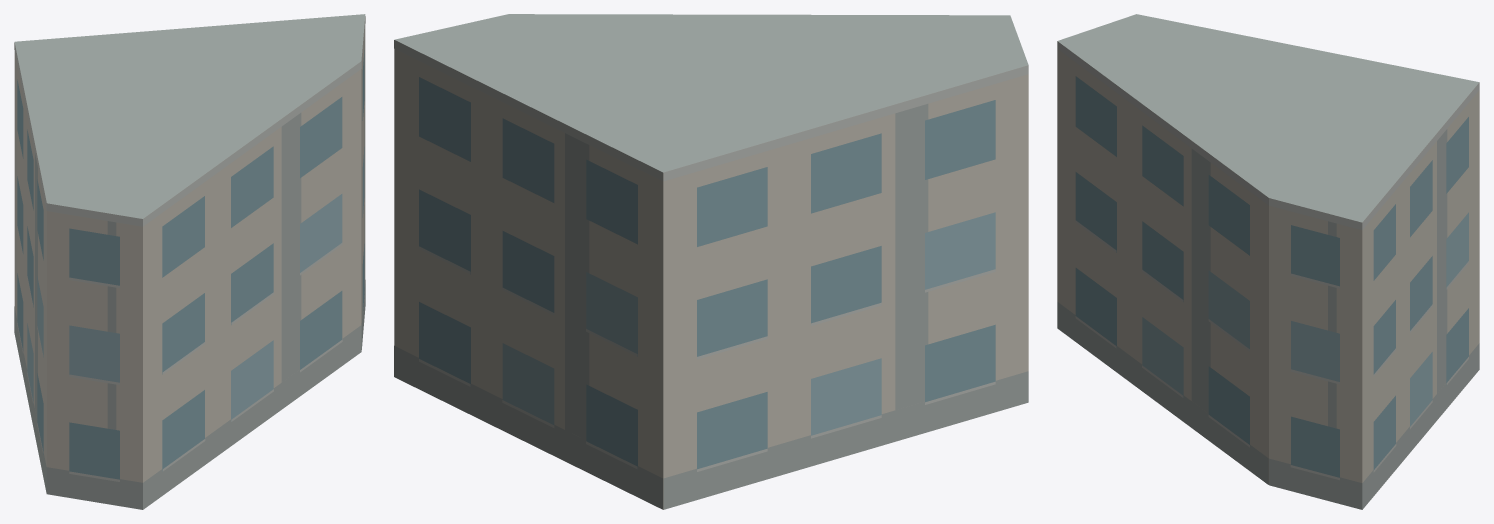
Rendered from survey-upis-32638608.glb.
3 views of the same model, side by side, from view 1: azimuth 30°, elevation 25°; view 2: azimuth 150°, elevation 25°; view 3: azimuth 270°, elevation 25° (orthographic). The views are drawn at different scales.
Parts seen in each view (by area): view 1: survey-upis-32638608.tmp; view 2: survey-upis-32638608.tmp; view 3: survey-upis-32638608.tmp.
Boxes of the visible parts, x1=… form: survey-upis-32638608.tmp: x1=14, y1=14, x2=365, y2=509; survey-upis-32638608.tmp: x1=394, y1=14, x2=1028, y2=509; survey-upis-32638608.tmp: x1=1057, y1=14, x2=1479, y2=509.
Size of the model in its own units: 14.26 by 9.15 by 12.2.
